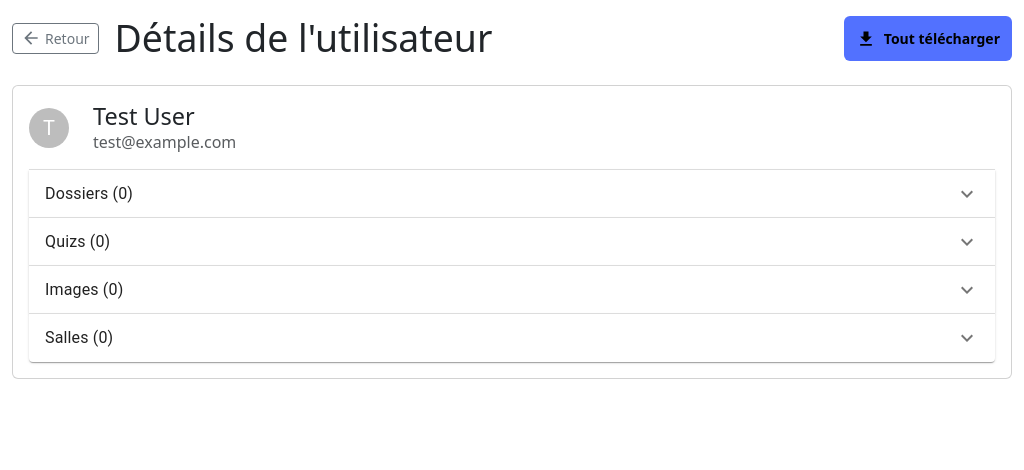
Test: AdminUserDetails › download all shows loading state and success notice
Click the button "Tout télécharger" at coordinates (928, 38), box [844,16,1012,61]
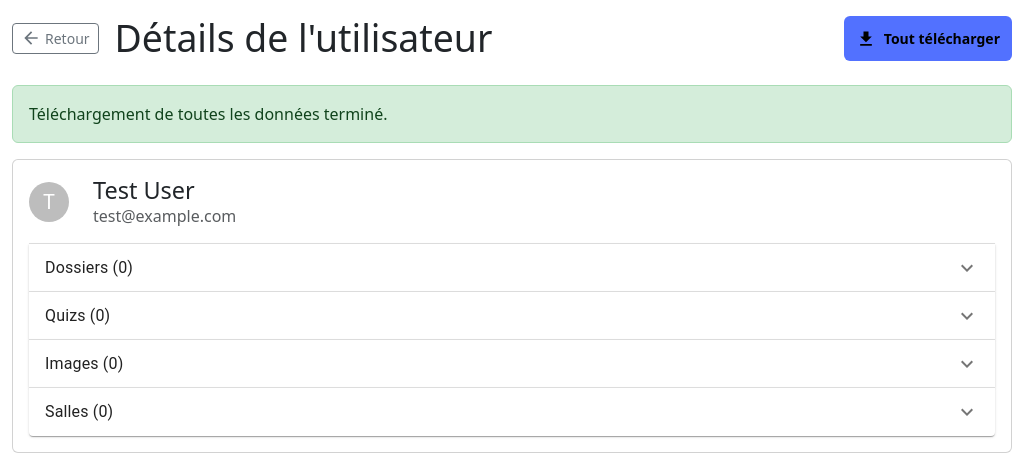
Now the text "Téléchargement de toutes les données terminé." is shown, box [12,85,1012,143]
